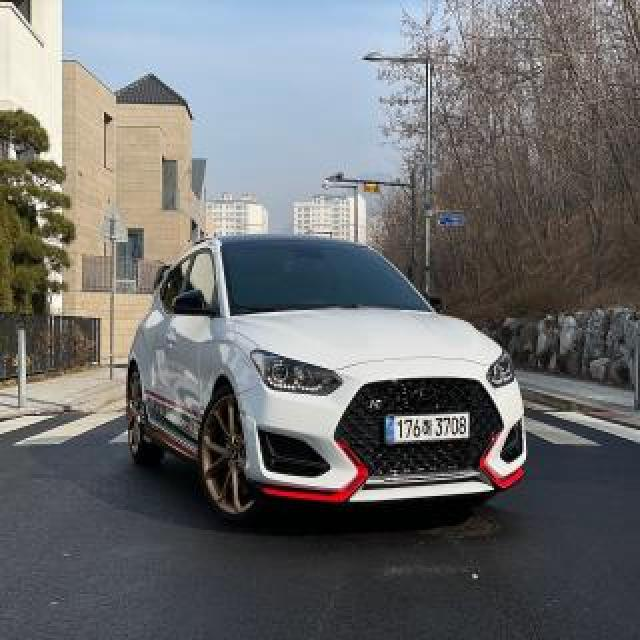car: (116, 224, 534, 536)
illegal_plate: (381, 408, 470, 448)
